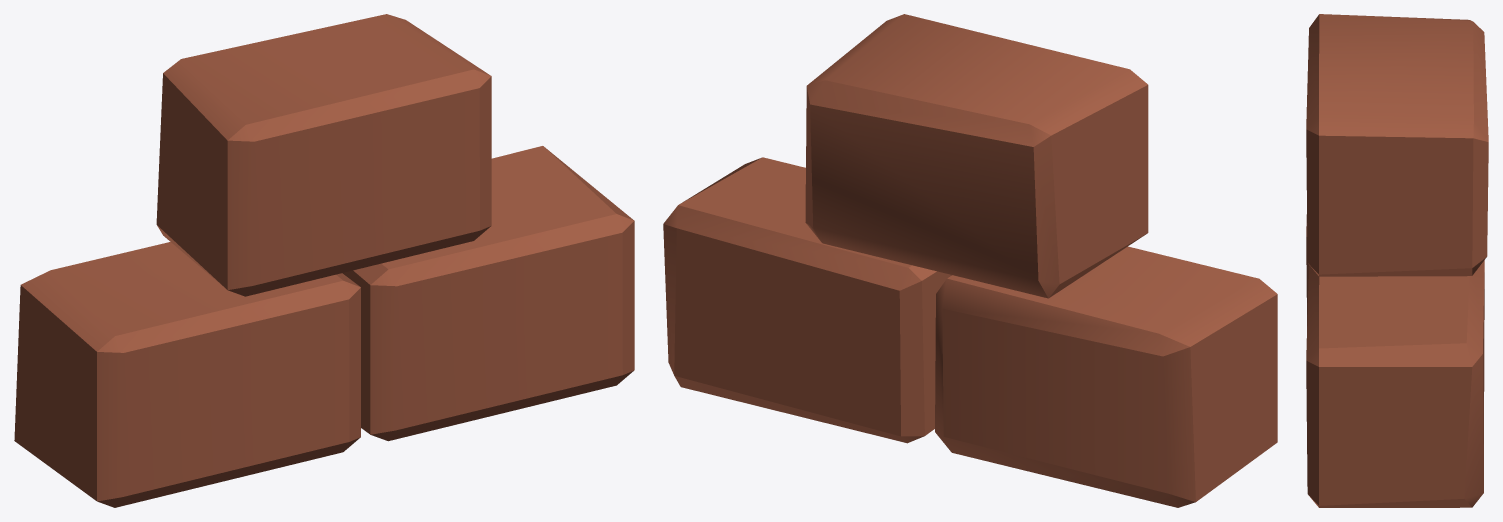
File: Ladrillos Objeto Duplica.fbx
3 views of the same model, side by side, from view 1: azimuth 30°, elevation 25°; view 2: azimuth 150°, elevation 25°; view 3: azimuth 270°, elevation 25° (orthographic). The views are drawn at different scales.
Parts seen in each view (by area): view 1: Ladrillos Objetos Duplica; view 2: Ladrillos Objetos Duplica; view 3: Ladrillos Objetos Duplica.
Boxes of the visible parts, box(x1,y1,x2,y2) form: Ladrillos Objetos Duplica: box(14, 14, 634, 507); Ladrillos Objetos Duplica: box(663, 14, 1277, 507); Ladrillos Objetos Duplica: box(1306, 14, 1488, 507).
Size of the model in its own units: 6.12 by 3.84 by 1.94.
